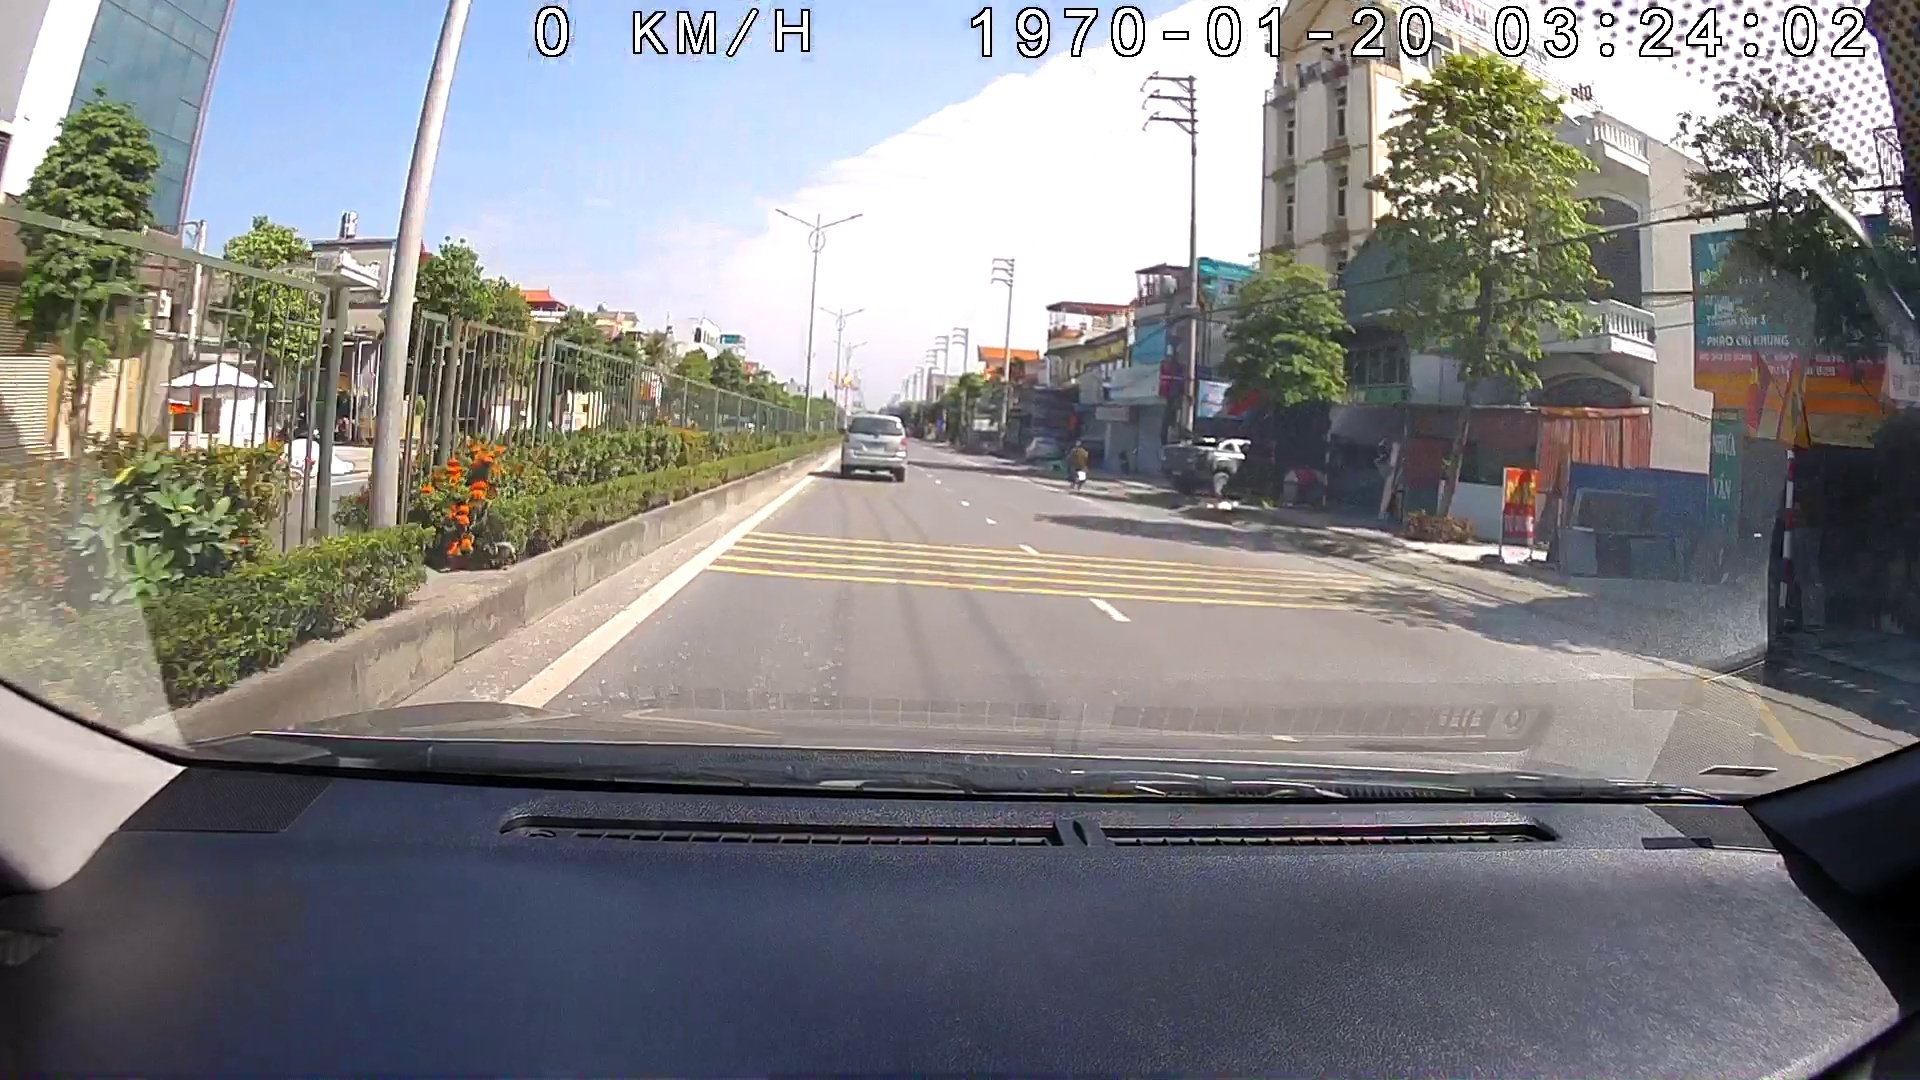Giao nhau voi duong khong uu tien: (1772, 355, 1817, 454)
